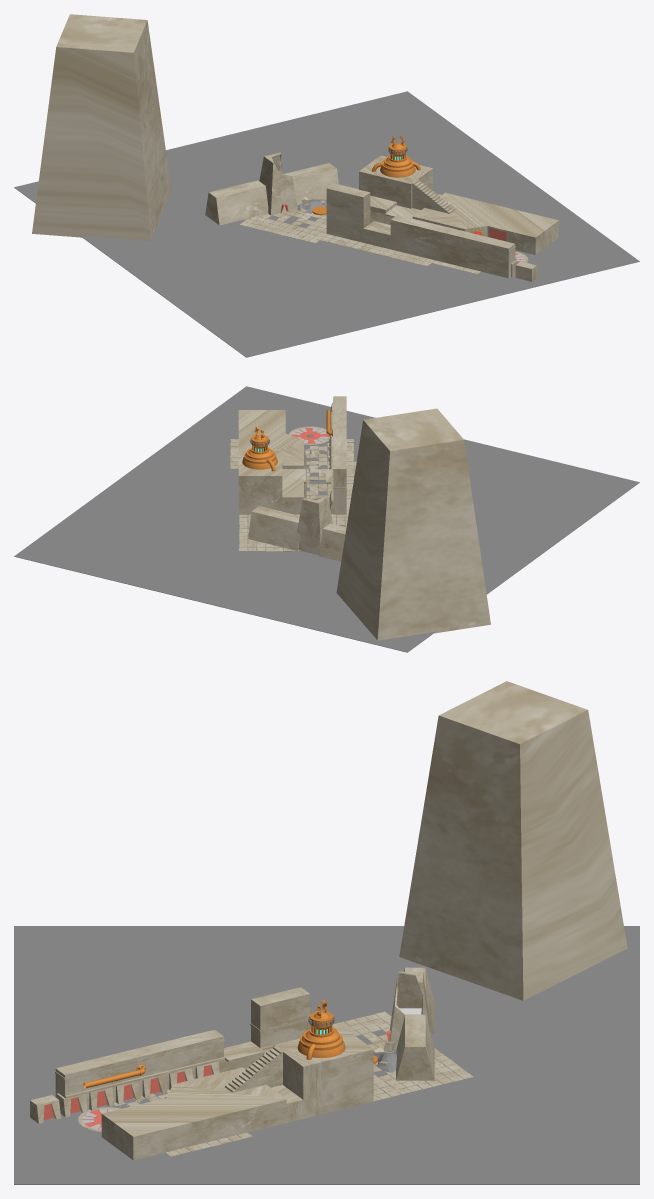
The model's file is Concept_2_firstperson_blockout.fbx.
The picture shows the model from 3 angles, top to bottom: view 1: azimuth 30°, elevation 25°; view 2: azimuth 150°, elevation 25°; view 3: azimuth 270°, elevation 25°; orthographic projection. The views are drawn at different scales.
Parts seen in each view (by area): view 1: Cube, Cube.009, Cube.006, Cube.007, Cube.008, Cube.001, Cube.003; view 2: Cube, Cube.009, Cube.007, Cube.006, Cube.003, Cube.001, Cube.008, Sphere.003; view 3: Cube, Cube.009, Cube.007, Cube.006, Cube.013, Cube.003, Cube.001, Cube.010, Cube.012.
Boxes of the visible parts, bbox=[...] form: Cube: bbox=[14, 91, 639, 357]; Cube.009: bbox=[32, 14, 171, 241]; Cube.006: bbox=[326, 183, 516, 278]; Cube.007: bbox=[359, 155, 558, 254]; Cube.008: bbox=[205, 180, 268, 225]; Cube.001: bbox=[259, 152, 297, 215]; Cube.003: bbox=[284, 163, 338, 205]; Cube: bbox=[14, 386, 639, 652]; Cube.009: bbox=[336, 408, 490, 640]; Cube.007: bbox=[238, 410, 306, 514]; Cube.006: bbox=[326, 396, 346, 514]; Cube.003: bbox=[248, 506, 299, 550]; Cube.001: bbox=[297, 496, 332, 555]; Cube.008: bbox=[319, 523, 346, 561]; Sphere.003: bbox=[242, 449, 277, 469]; Cube: bbox=[14, 926, 639, 1184]; Cube.009: bbox=[399, 681, 627, 1000]; Cube.007: bbox=[101, 1028, 373, 1160]; Cube.006: bbox=[55, 987, 309, 1109]; Cube.013: bbox=[30, 1061, 219, 1123]; Cube.003: bbox=[396, 1014, 434, 1080]; Cube.001: bbox=[389, 971, 431, 1049]; Cube.010: bbox=[245, 1046, 282, 1079]; Cube.012: bbox=[225, 1070, 282, 1092].
Size of the model in its own units: 7231 by 3027 by 6828.
